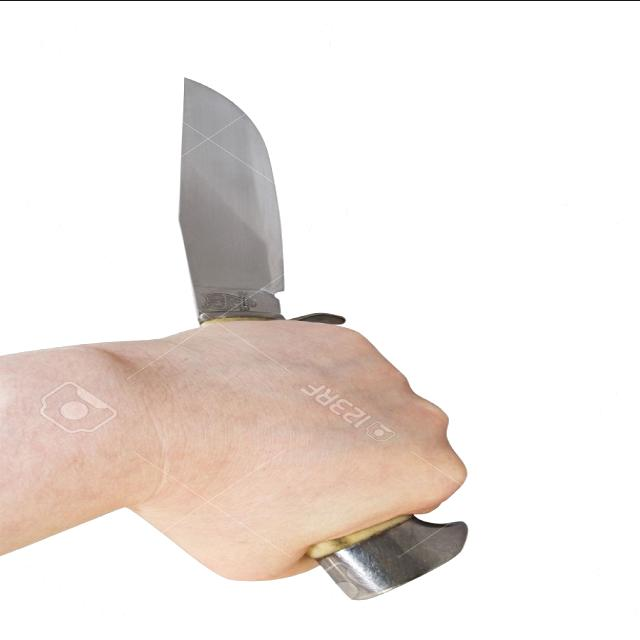knife: (164, 54, 402, 398)
